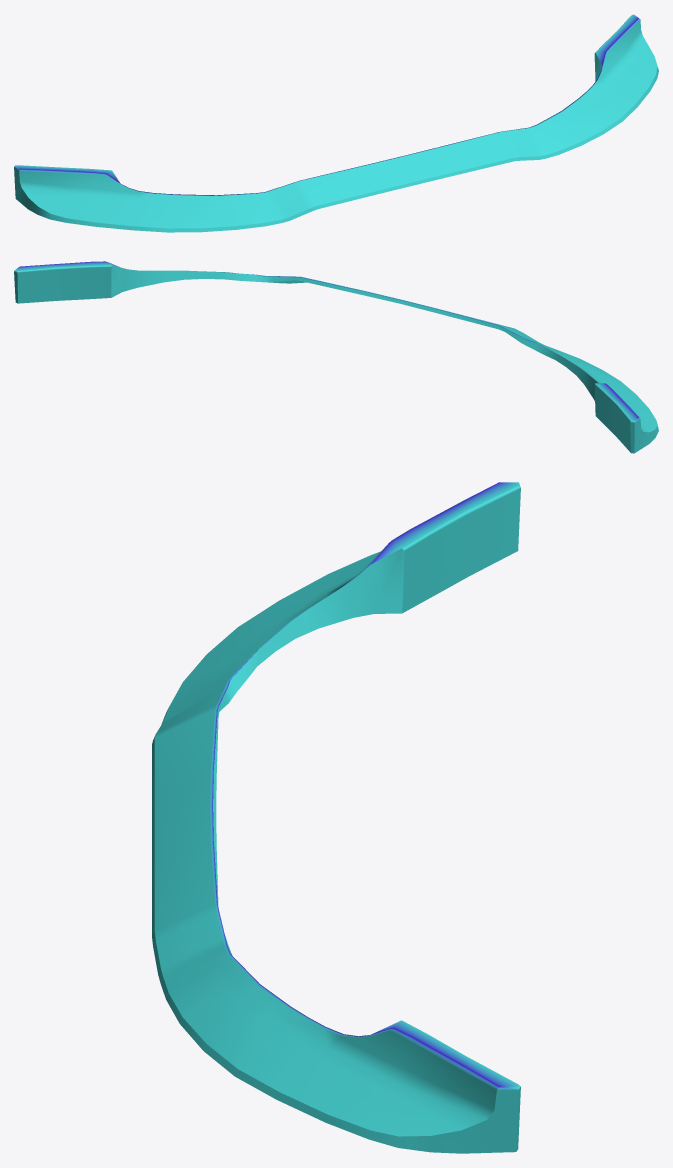
The model's file is Car_Mini_CountrymanJCW_2017_Splitter_SetB_AltI.fbx.
3 renders of one model, top to bottom at view 1: azimuth 30°, elevation 25°; view 2: azimuth 150°, elevation 25°; view 3: azimuth 270°, elevation 25°, orthographic. The views are drawn at different scales.
Visible parts, largest first — view 1: Splitter 6; view 2: Splitter 6; view 3: Splitter 6.
Part boxes in pixels (bbox=[...]): Splitter 6: bbox=[14, 14, 658, 232]; Splitter 6: bbox=[14, 261, 658, 453]; Splitter 6: bbox=[152, 482, 520, 1153].
Bounding box in the file's own units: 1.98 × 0.1117 × 0.5093.
